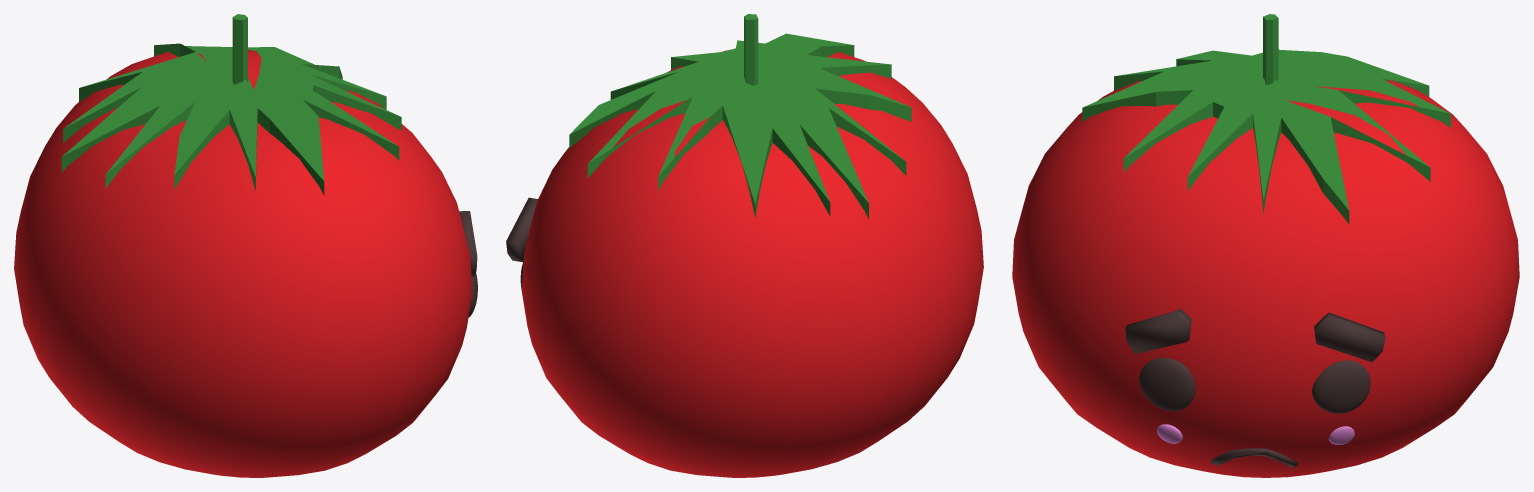
The model's file is sadtomato.fbx.
3 views of the same model, side by side, from view 1: azimuth 30°, elevation 25°; view 2: azimuth 150°, elevation 25°; view 3: azimuth 270°, elevation 25° (orthographic).
Visible parts, largest first — view 1: head.002, upper.001, RightBrow.003; view 2: head.002, upper.001, RightBrow.002; view 3: head.002, upper.001, RightEye.004, RightEye.005, RightBrow.002, RightBrow.003, mouth.002.
Part boxes in pixels (box(x1,y1,x2,y2)): head.002: box(14, 46, 472, 477); upper.001: box(61, 14, 401, 195); RightBrow.003: box(459, 211, 477, 276); head.002: box(521, 50, 983, 477); upper.001: box(569, 14, 911, 219); RightBrow.002: box(506, 197, 537, 262); head.002: box(1012, 80, 1519, 477); upper.001: box(1082, 14, 1450, 224); RightEye.004: box(1312, 360, 1370, 413); RightEye.005: box(1139, 357, 1195, 411); RightBrow.002: box(1314, 312, 1385, 362); RightBrow.003: box(1125, 309, 1191, 353); mouth.002: box(1210, 448, 1297, 467).
Bounding box in the file's own units: 106 × 114 × 121.
